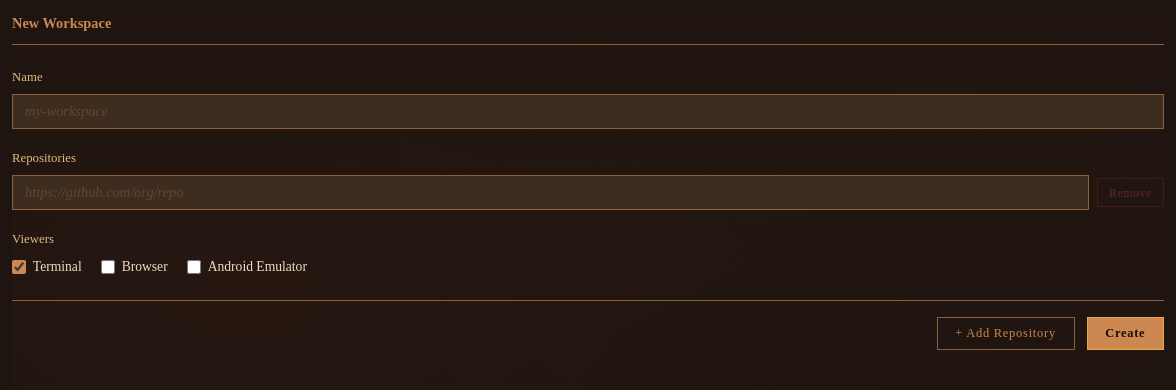
Scenario: WorkspaceForm › shows error for invalid name
The image size is (1176, 390).
In the field with id "env-name": (588,112) [12,94,1164,129], type "Invalid Name!"
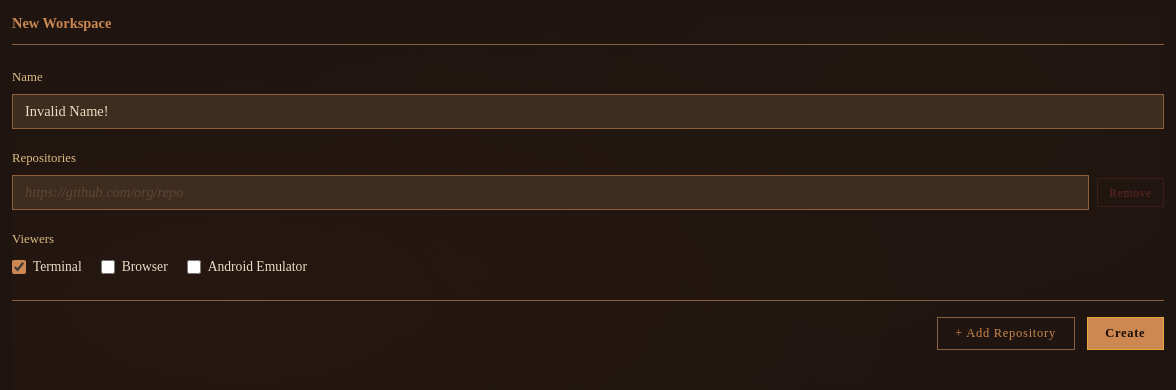
In the field with placeholder "https://github.com/org/repo": (551,193) [12,175,1089,210], type "https://github.com/foo/bar"
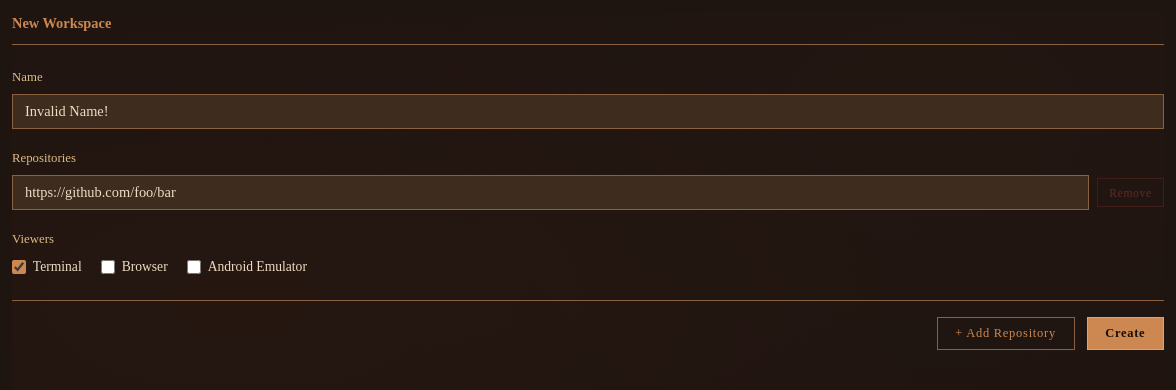
Submit the form
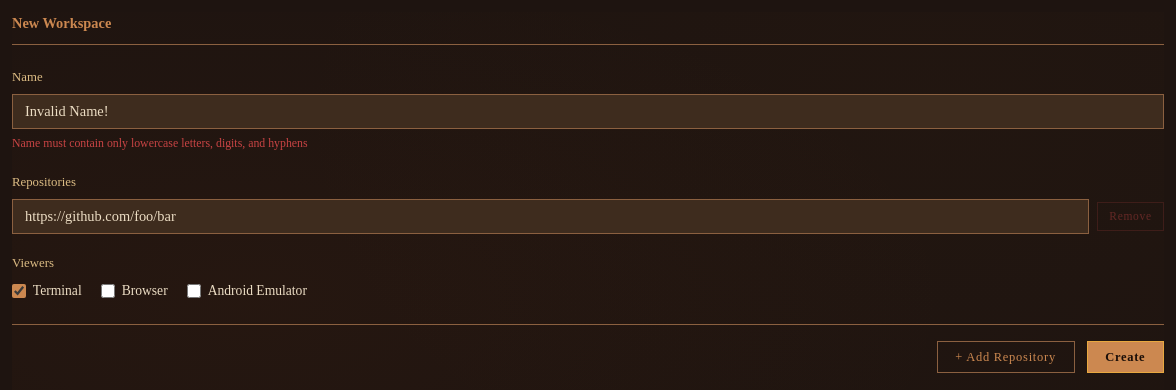
Now the text with class "error" is shown, box [12,136,308,150]
